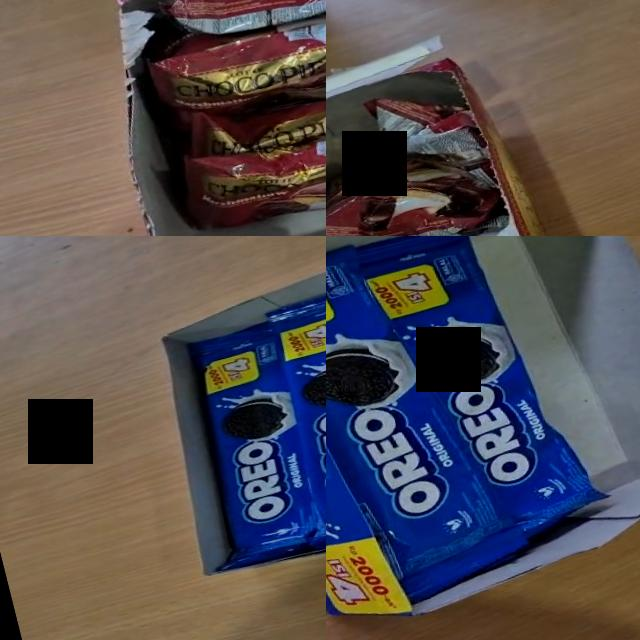Chocopie: (145, 0, 326, 138), (170, 95, 326, 236), (174, 56, 326, 180), (326, 158, 499, 236), (326, 169, 498, 236), (153, 0, 326, 52), (371, 100, 486, 169)
Oreo: (357, 236, 604, 538), (326, 247, 515, 600), (161, 319, 326, 574), (251, 282, 326, 555)
